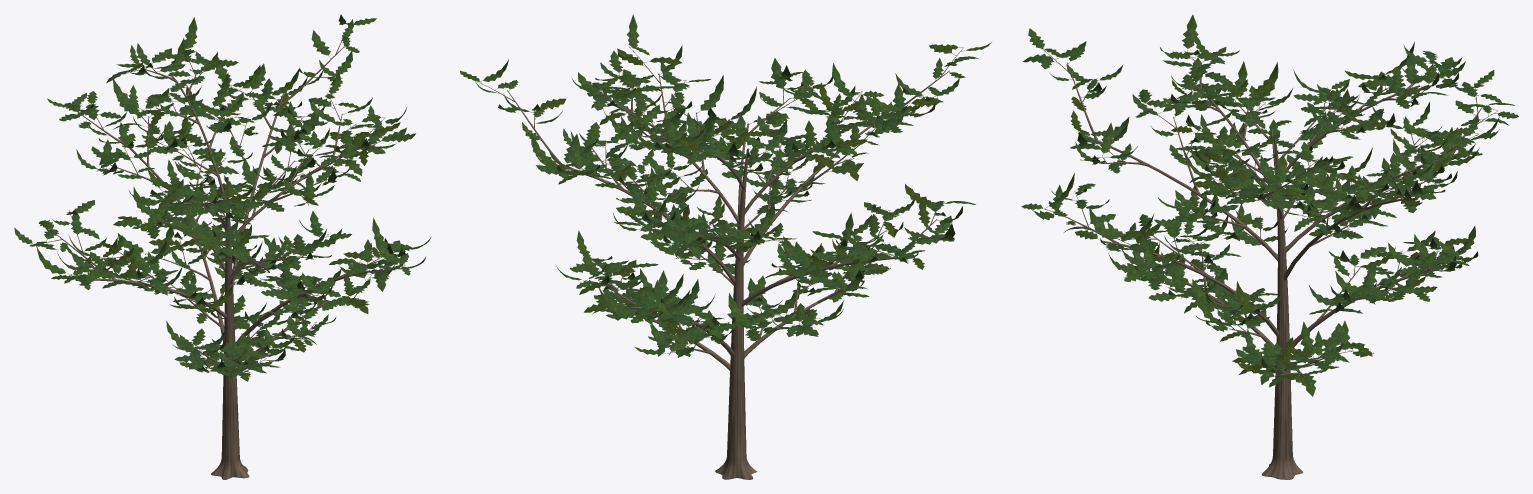
File: oak.glb
The picture shows the model from 3 angles, left to right: view 1: azimuth 30°, elevation 25°; view 2: azimuth 150°, elevation 25°; view 3: azimuth 270°, elevation 25°; orthographic projection. The views are drawn at different scales.
Visible parts, largest first — view 1: Foliage, Bark; view 2: Foliage, Bark; view 3: Foliage, Bark.
Boxes of the visible parts, left/top/right/bottom form: Foliage: left=14, top=14, right=430, bottom=381; Bark: left=32, top=22, right=405, bottom=479; Foliage: left=460, top=14, right=991, bottom=357; Bark: left=477, top=47, right=964, bottom=479; Foliage: left=1021, top=14, right=1518, bottom=396; Bark: left=1040, top=48, right=1497, bottom=479.
Bounding box in the file's own units: 2.59 × 2.4 × 2.56.
2 materials, 2 textured.
